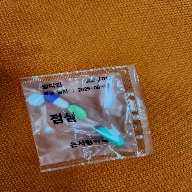러키펜정: (28, 94, 45, 107)
씨엠지세파클러캡슐: (43, 93, 69, 110)
에르도캡슐: (96, 126, 124, 146)
휴티렌정: (67, 105, 87, 120)
